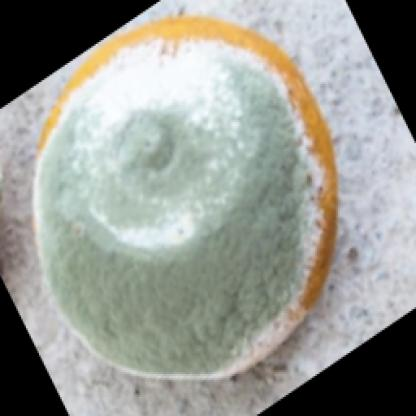rotten: (34, 15, 337, 382)
